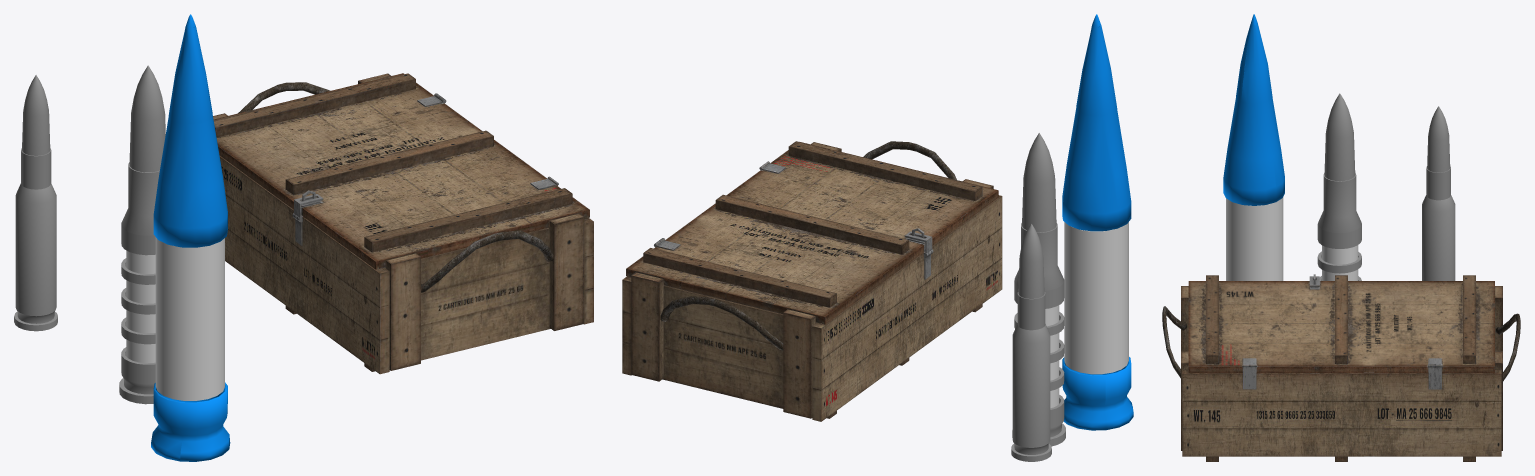
Rendered from Bulletrs.FBX.
The picture shows the model from 3 angles, left to right: view 1: azimuth 30°, elevation 25°; view 2: azimuth 150°, elevation 25°; view 3: azimuth 270°, elevation 25°; orthographic projection. The views are drawn at different scales.
Visible parts, largest first — view 1: Low, Cylinder001, Tube001, Object005, pCylinder1, Object001, Cylinder002, Object003, Object002, Object004, pCylinder2; view 2: Low, Cylinder001, Tube001, Object005, Object001, pCylinder1, Object003, Object004, Cylinder002, Object002, pCylinder2; view 3: Low, Cylinder001, Tube001, Object005, pCylinder1, Object001, Object003, Cylinder002, Object004, Object002.
Boxes of the visible parts, x1,y1,x2,y2 form: Low: (213,73,593,374); Cylinder001: (151,14,230,461); Tube001: (155,237,224,400); Object005: (15,183,56,316); pCylinder1: (119,162,159,404); Object001: (129,65,165,172); Cylinder002: (126,250,155,363); Object003: (22,75,50,155); Object002: (121,258,155,344); Object004: (21,148,51,189); pCylinder2: (14,311,57,331); Low: (622,141,1002,421); Cylinder001: (1062,14,1133,430); Tube001: (1064,222,1128,374); Object005: (1012,324,1050,447); Object001: (1022,133,1056,232); pCylinder1: (1012,223,1065,446); Object003: (1018,224,1044,298); Object004: (1017,292,1045,330); Cylinder002: (1045,305,1059,408); Object002: (1014,312,1064,390); pCylinder2: (1011,442,1051,461); Low: (1162,274,1520,461); Cylinder001: (1223,14,1284,205); Tube001: (1226,197,1283,280); Object005: (1422,195,1455,280); pCylinder1: (1317,172,1361,248); Object001: (1324,93,1355,181); Object003: (1427,106,1450,172); Cylinder002: (1322,245,1358,280); Object004: (1426,166,1450,200); Object002: (1317,251,1361,280).
Bounding box in the file's own units: 666 × 650 × 596.
